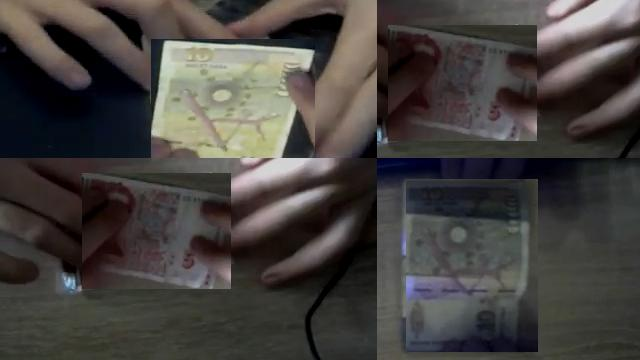10leva: (406, 179, 538, 352), (151, 39, 315, 158)
5leva: (388, 25, 537, 141), (82, 173, 231, 289)
